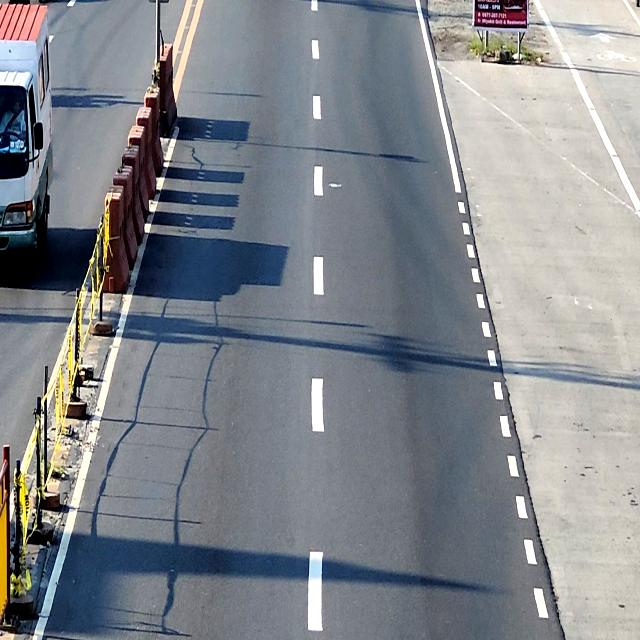Truck: (0, 6, 53, 271)
